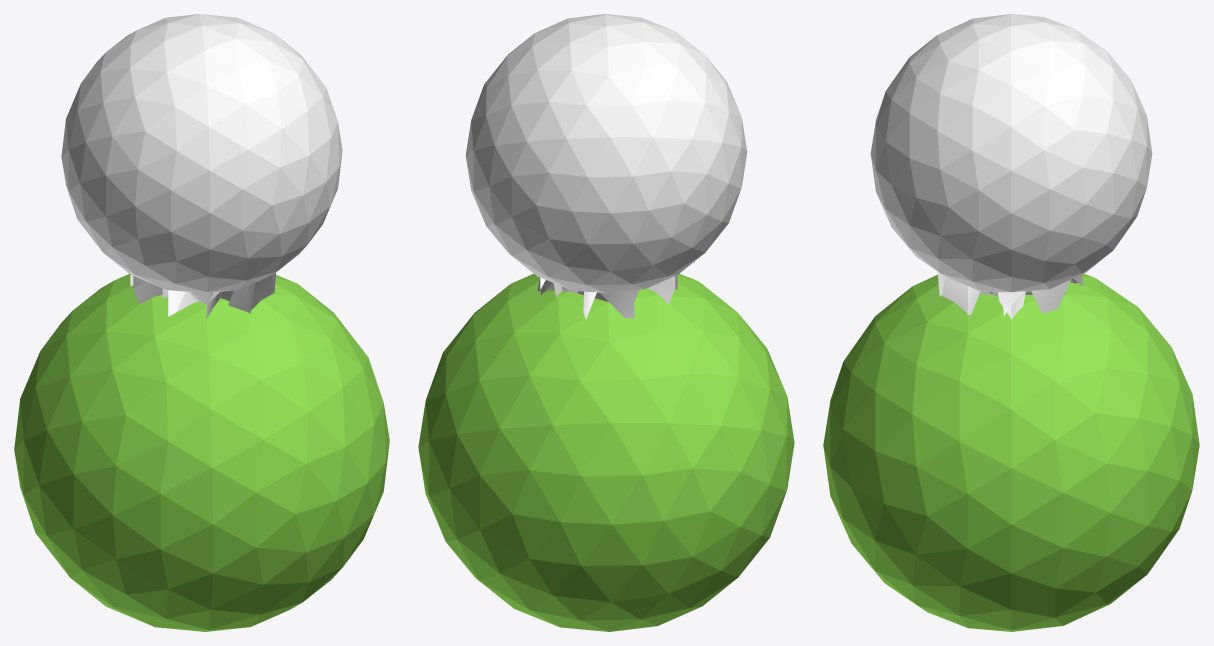
3 views of the same model, side by side, from view 1: azimuth 30°, elevation 25°; view 2: azimuth 150°, elevation 25°; view 3: azimuth 270°, elevation 25° (orthographic).
Parts seen in each view (by area): view 1: Shape_IndexedFaceSet, Shape_IndexedFaceSet.001, Shape_IndexedFaceSet.004; view 2: Shape_IndexedFaceSet, Shape_IndexedFaceSet.001, Shape_IndexedFaceSet.004; view 3: Shape_IndexedFaceSet, Shape_IndexedFaceSet.001, Shape_IndexedFaceSet.004.
Part boxes in pixels (x1,y1,x2,y2): Shape_IndexedFaceSet: (14,274,389,631); Shape_IndexedFaceSet.001: (61,14,342,292); Shape_IndexedFaceSet.004: (130,272,276,319); Shape_IndexedFaceSet: (418,273,794,631); Shape_IndexedFaceSet.001: (465,14,747,293); Shape_IndexedFaceSet.004: (537,275,677,319); Shape_IndexedFaceSet: (823,273,1199,631); Shape_IndexedFaceSet.001: (870,14,1152,292); Shape_IndexedFaceSet.004: (937,272,1082,319).
Size of the model in its own units: 0.1019 by 0.1762 by 0.1019.
